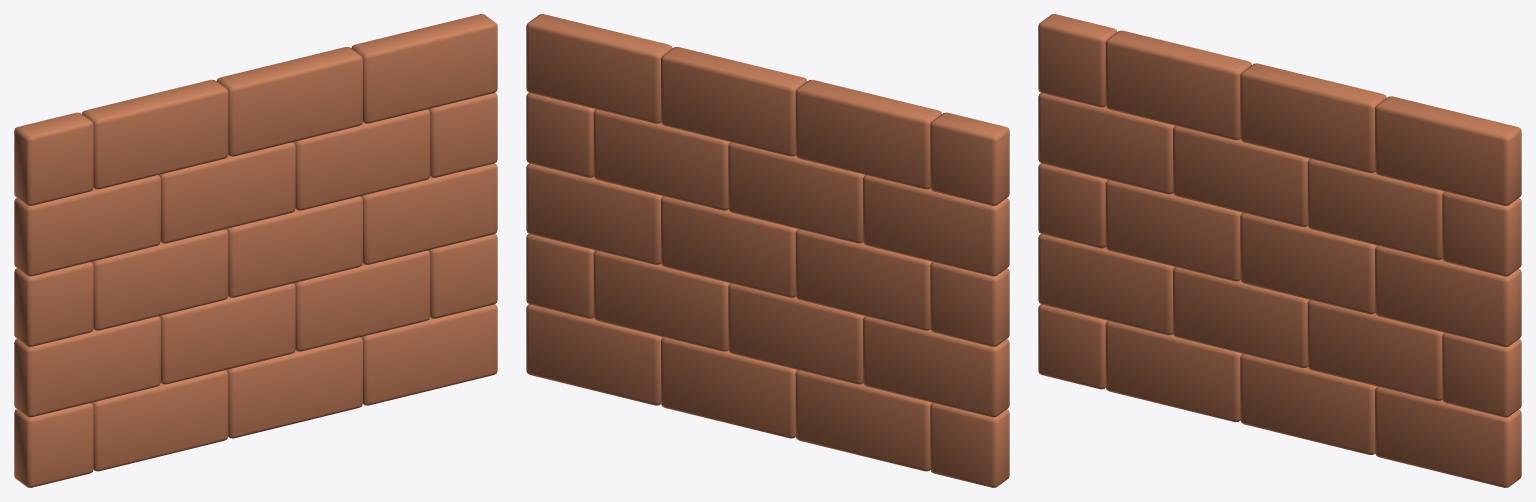
File: brick_wall.fbx
The picture shows the model from 3 angles, left to right: view 1: azimuth 30°, elevation 25°; view 2: azimuth 150°, elevation 25°; view 3: azimuth 330°, elevation 25°; orthographic projection.
Parts seen in each view (by area): view 1: stone_8.006, stone_8.005, stone_8.001, stone_8.012, stone_8.022, stone_8.016, stone_8.010, stone_8.024, stone_8.015, stone_8.020, stone_8.013, stone_8.011 (+8 smaller); view 2: stone_8.006, stone_8.005, stone_8.001, stone_8.012, stone_8.022, stone_8.016, stone_8.010, stone_8.024, stone_8.015, stone_8.020, stone_8.013, stone_8.011 (+8 smaller); view 3: stone_8.001, stone_8.006, stone_8.005, stone_8.013, stone_8.026, stone_8.016, stone_8.010, stone_8.024, stone_8.015, stone_8.020, stone_8.012, stone_8.025 (+8 smaller).
Part boxes in pixels (bbox=[...]): stone_8.006: bbox=[82, 79, 228, 189]; stone_8.005: bbox=[216, 47, 362, 156]; stone_8.001: bbox=[351, 14, 497, 123]; stone_8.012: bbox=[14, 175, 160, 276]; stone_8.022: bbox=[14, 316, 160, 417]; stone_8.016: bbox=[91, 229, 228, 330]; stone_8.010: bbox=[293, 109, 430, 210]; stone_8.024: bbox=[91, 370, 228, 471]; stone_8.015: bbox=[225, 196, 362, 297]; stone_8.020: bbox=[293, 250, 430, 351]; stone_8.013: bbox=[360, 163, 497, 264]; stone_8.011: bbox=[159, 142, 295, 243]; stone_8.006: bbox=[795, 79, 941, 189]; stone_8.005: bbox=[661, 47, 807, 156]; stone_8.001: bbox=[526, 14, 672, 123]; stone_8.012: bbox=[863, 175, 1009, 276]; stone_8.022: bbox=[863, 316, 1009, 417]; stone_8.016: bbox=[795, 229, 932, 330]; stone_8.010: bbox=[593, 109, 730, 210]; stone_8.024: bbox=[795, 370, 932, 471]; stone_8.015: bbox=[661, 196, 798, 297]; stone_8.020: bbox=[593, 250, 730, 351]; stone_8.013: bbox=[526, 163, 663, 264]; stone_8.011: bbox=[728, 142, 864, 243]; stone_8.001: bbox=[1375, 96, 1521, 205]; stone_8.006: bbox=[1105, 30, 1251, 140]; stone_8.005: bbox=[1240, 63, 1386, 172]; stone_8.013: bbox=[1375, 245, 1521, 347]; stone_8.026: bbox=[1375, 386, 1521, 487]; stone_8.016: bbox=[1105, 180, 1242, 281]; stone_8.010: bbox=[1307, 158, 1444, 259]; stone_8.024: bbox=[1105, 321, 1242, 422]; stone_8.015: bbox=[1240, 212, 1377, 314]; stone_8.020: bbox=[1307, 300, 1443, 400]; stone_8.012: bbox=[1038, 93, 1175, 194]; stone_8.025: bbox=[1240, 353, 1377, 454].
Bounding box in the file's own units: 350 × 20 × 250.
